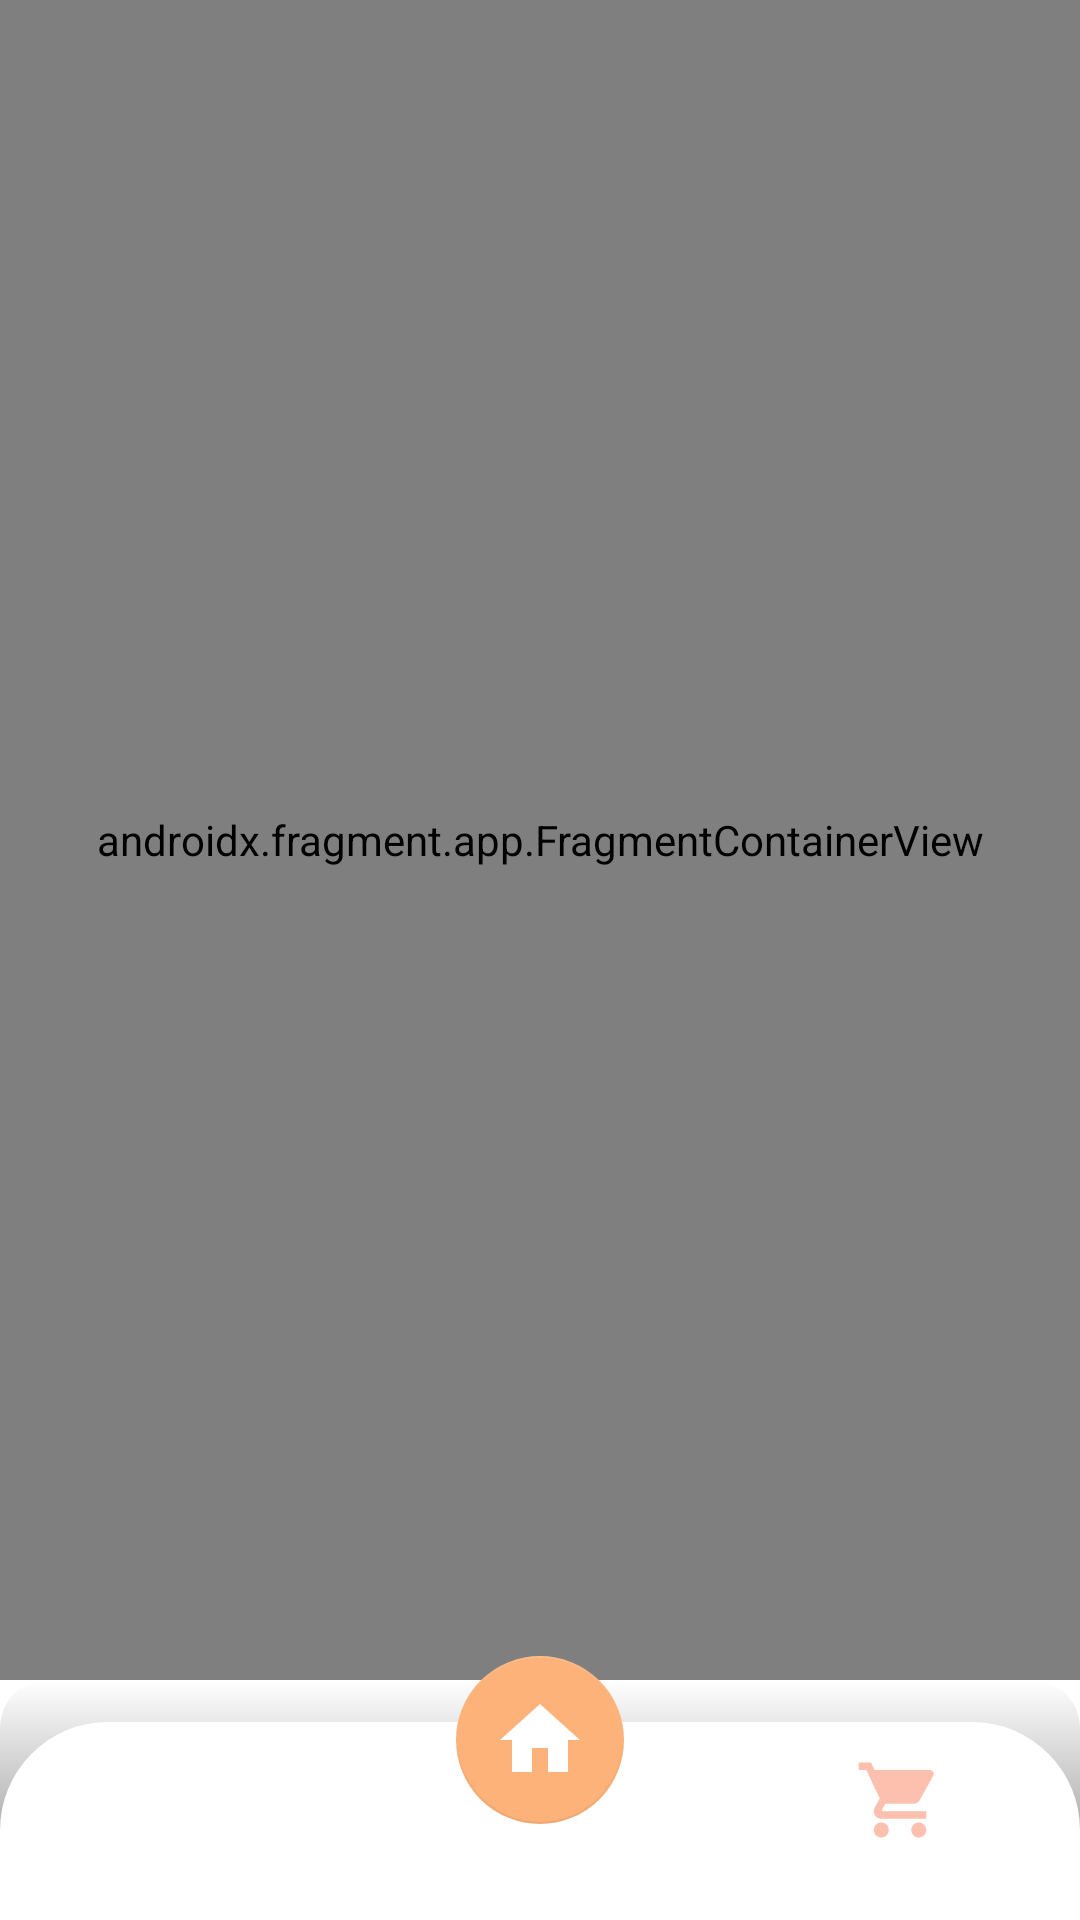

Named icons in this screenshot (1080x1920) and their centers, point (x, y):
home: point (540, 1740)
